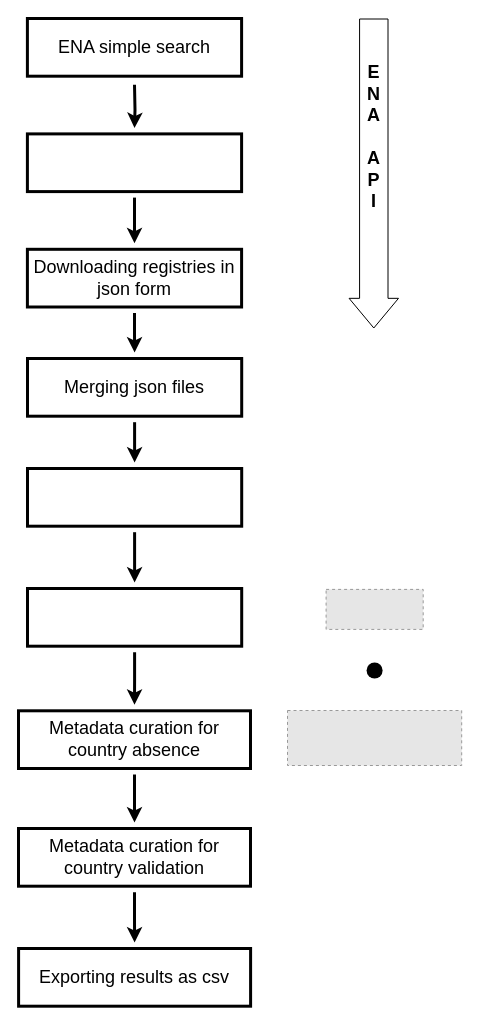
This 480x1025 diagram has some shape labels left out. Grey dashed boxes stand in for pictures. The centre of each missing label's shape, as x and y in pixels:
ENA advanced search: (134,162)
Establishing metrics for registries: (134,616)
Excluding registries without geography: (134,496)
